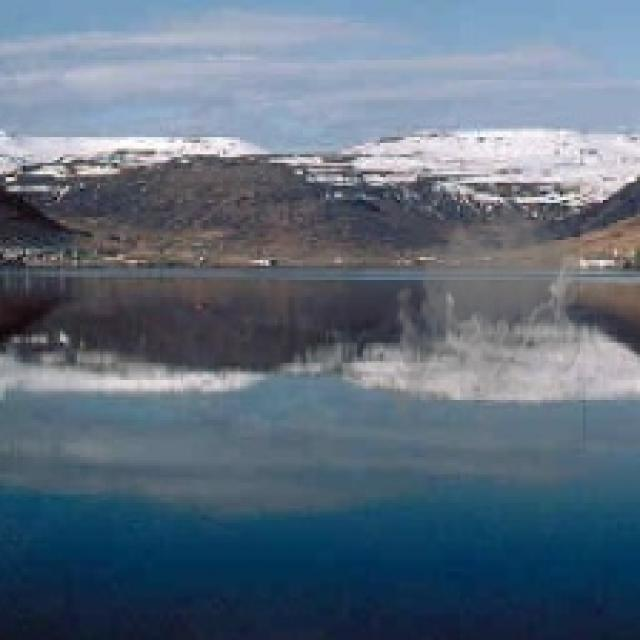Smoke: (383, 182, 586, 452)
